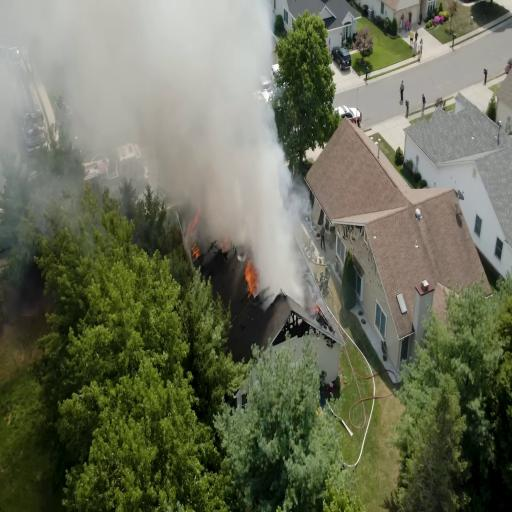smoke: (0, 0, 188, 170), (158, 53, 284, 222), (73, 1, 181, 180)
